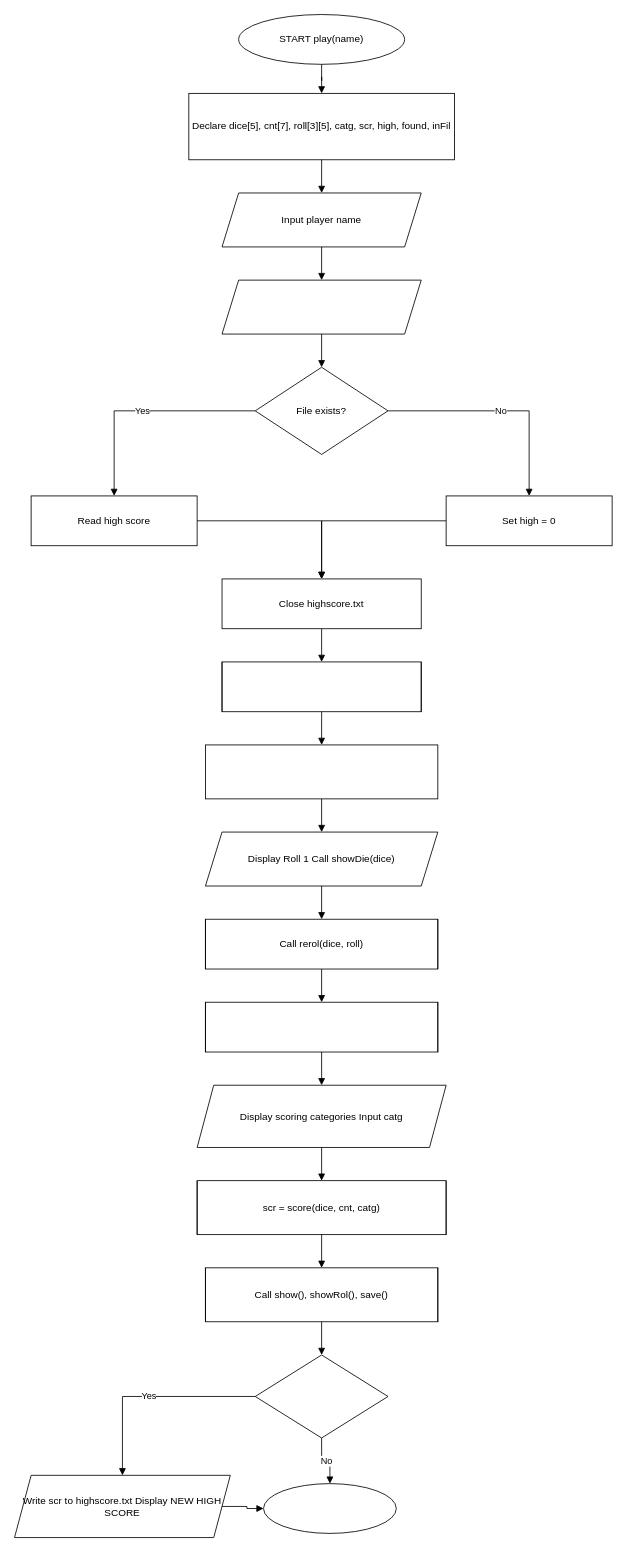
Some shapes in this 627 by 1552 pixel diagram are drawn without their labels. Here are the shapes that lost their labels. From the top down, the centre of each, then its label:
At point 321,306: "Open highscore.txt".
At point 321,686: "Call rollDie(dice)".
At point 321,771: "Copy dice[] into roll[0][]".
At point 321,1026: "Call cntDie(dice, cnt)".
At point 321,1396: "scr > high?".
At point 329,1508: "Return scr".
